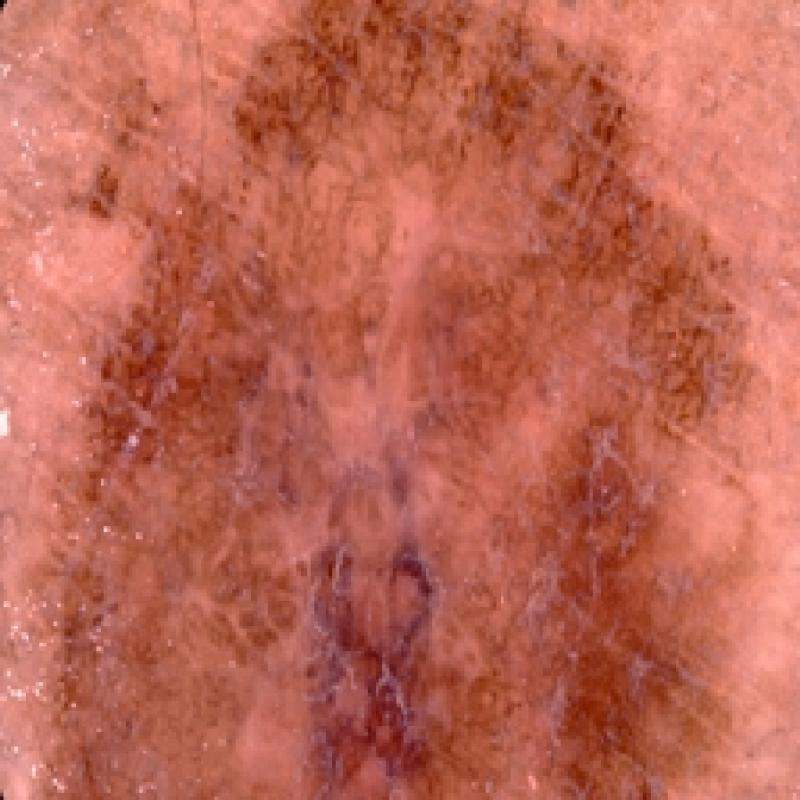malignant: (68, 2, 726, 791)
